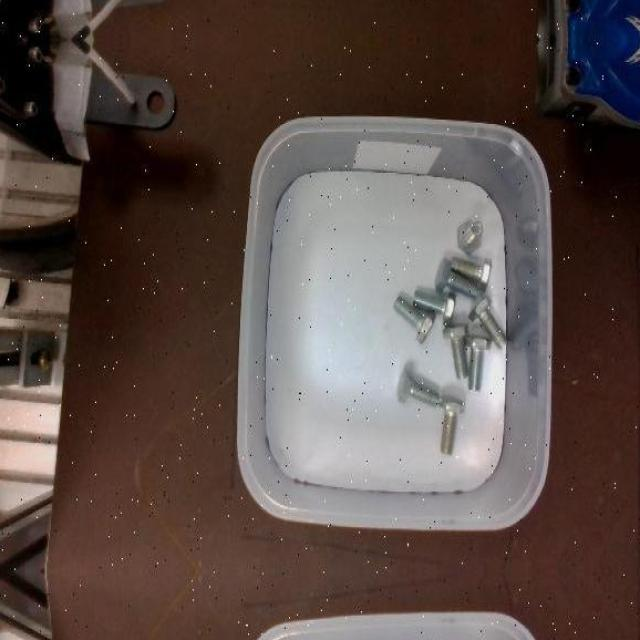screw: (467, 294, 507, 349), (393, 295, 436, 343), (435, 257, 477, 298), (396, 366, 438, 406), (464, 332, 490, 392), (440, 395, 465, 456), (413, 290, 455, 326), (449, 258, 492, 292), (442, 322, 468, 378), (457, 219, 482, 253)
